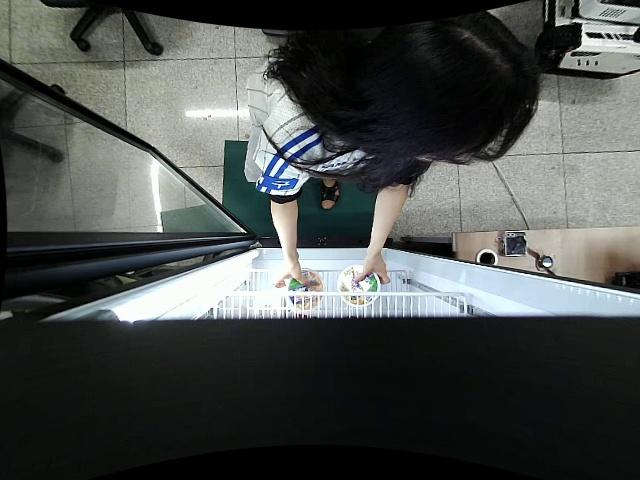00_hand: (352, 246, 391, 286), (271, 261, 309, 287)
09_yukGaeJang: (337, 265, 380, 307), (286, 268, 325, 310)
